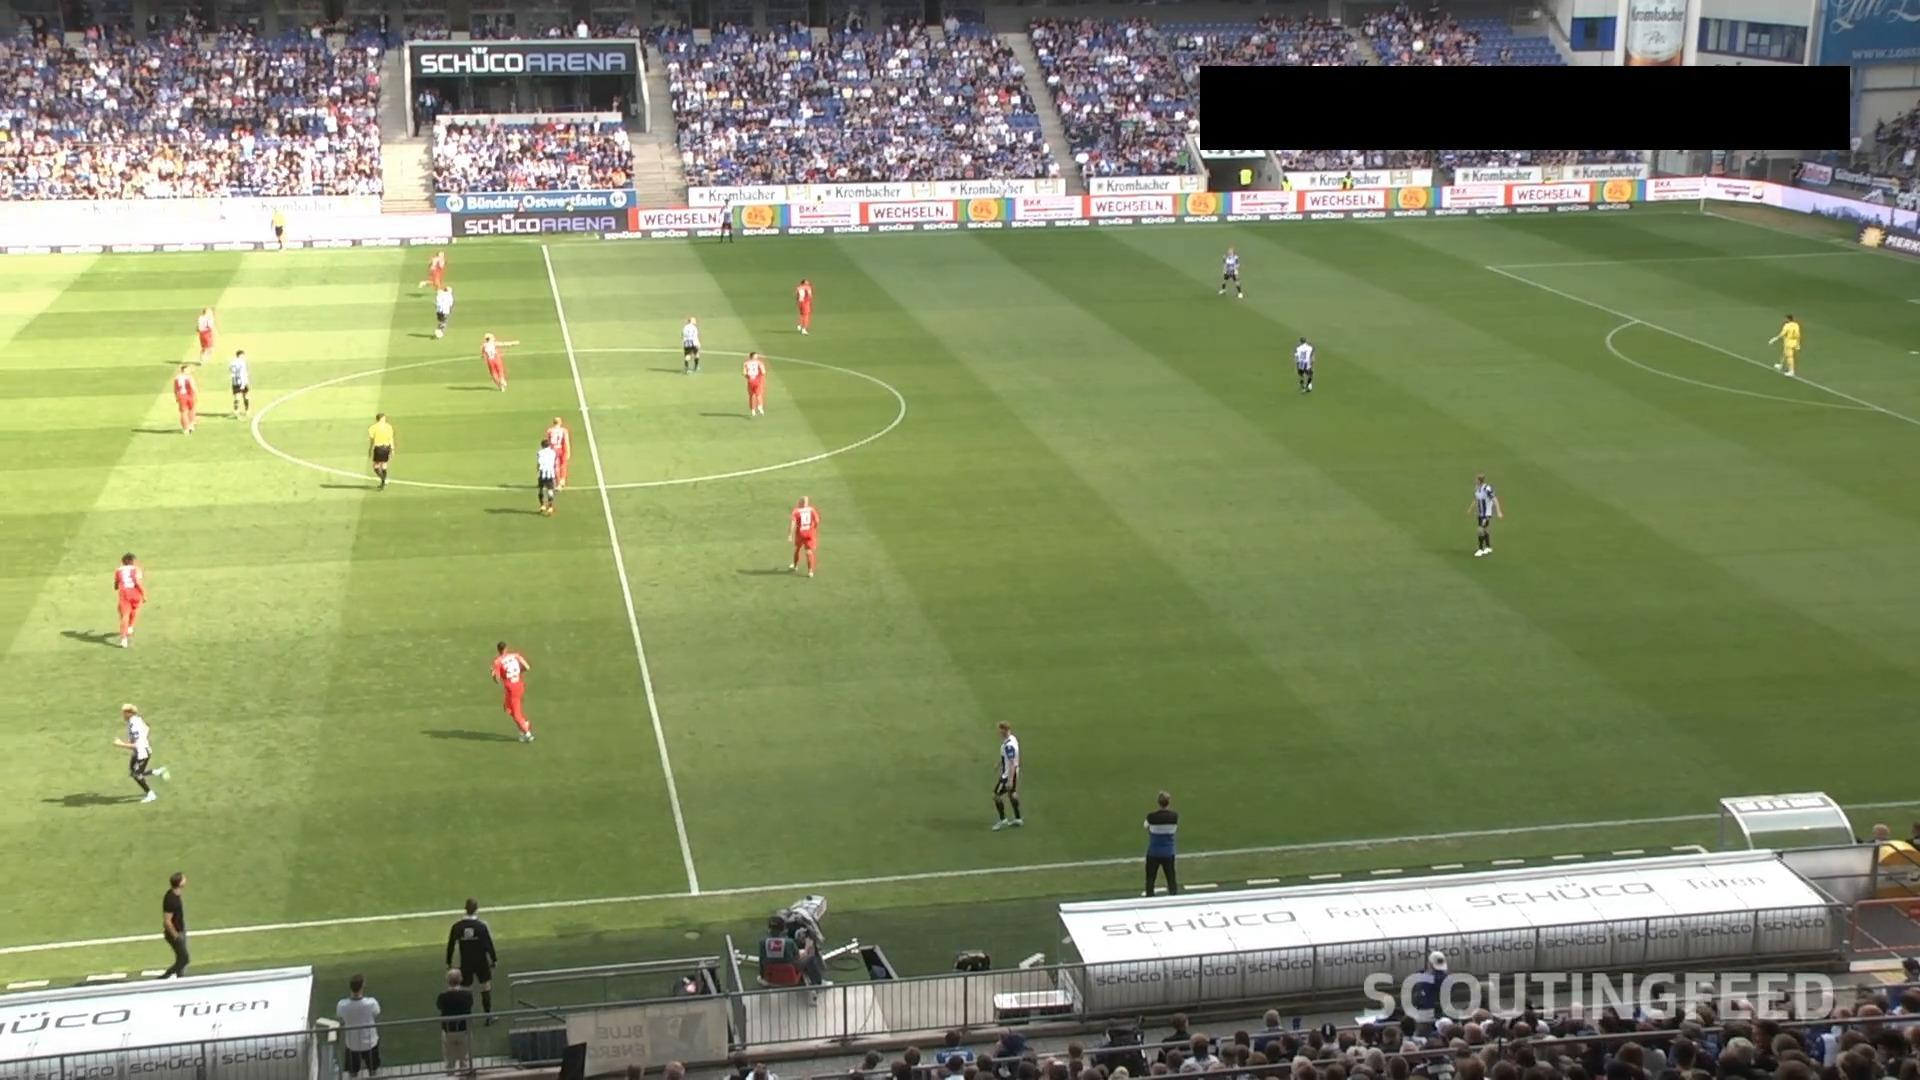ball: (1303, 381, 1313, 392)
